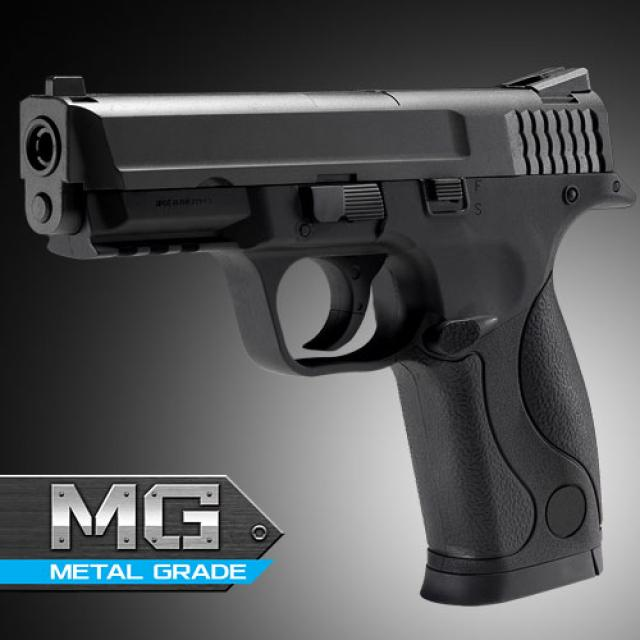HandGun: (19, 67, 635, 609)
